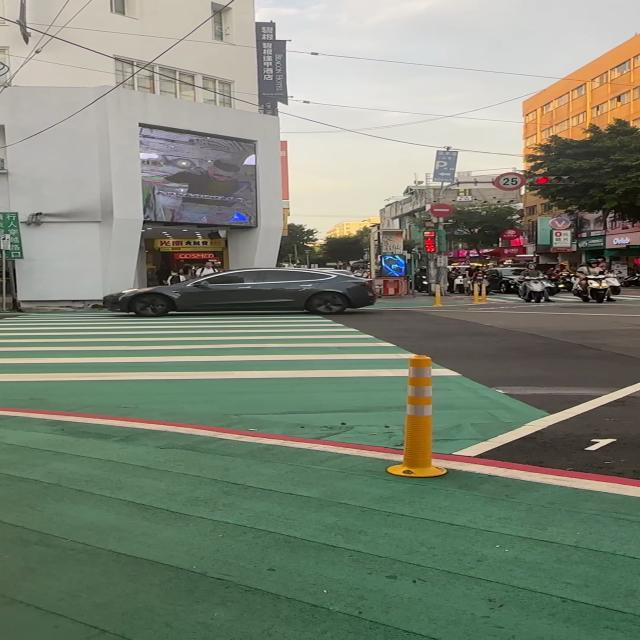Flexible_delineator_post: (386, 355, 448, 478)
car: (104, 268, 377, 316)
crosswalk: (0, 312, 417, 383)
motocycle: (578, 275, 609, 304), (518, 275, 549, 302)
